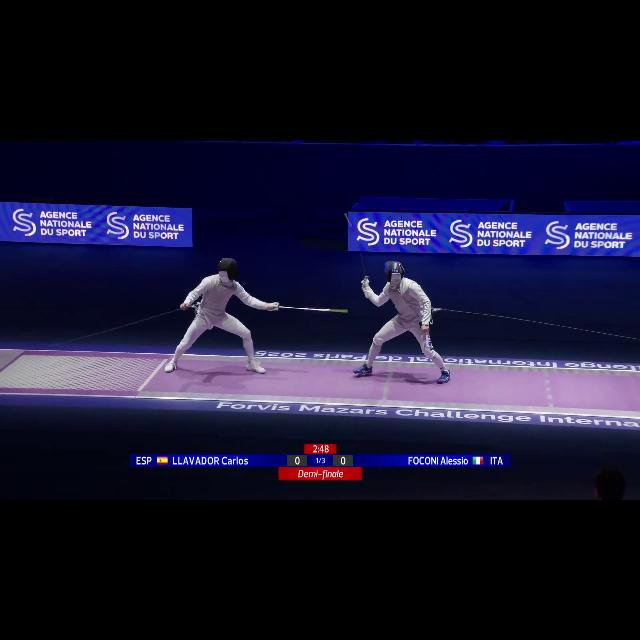blade: (342, 212, 373, 286), (264, 298, 358, 322)
